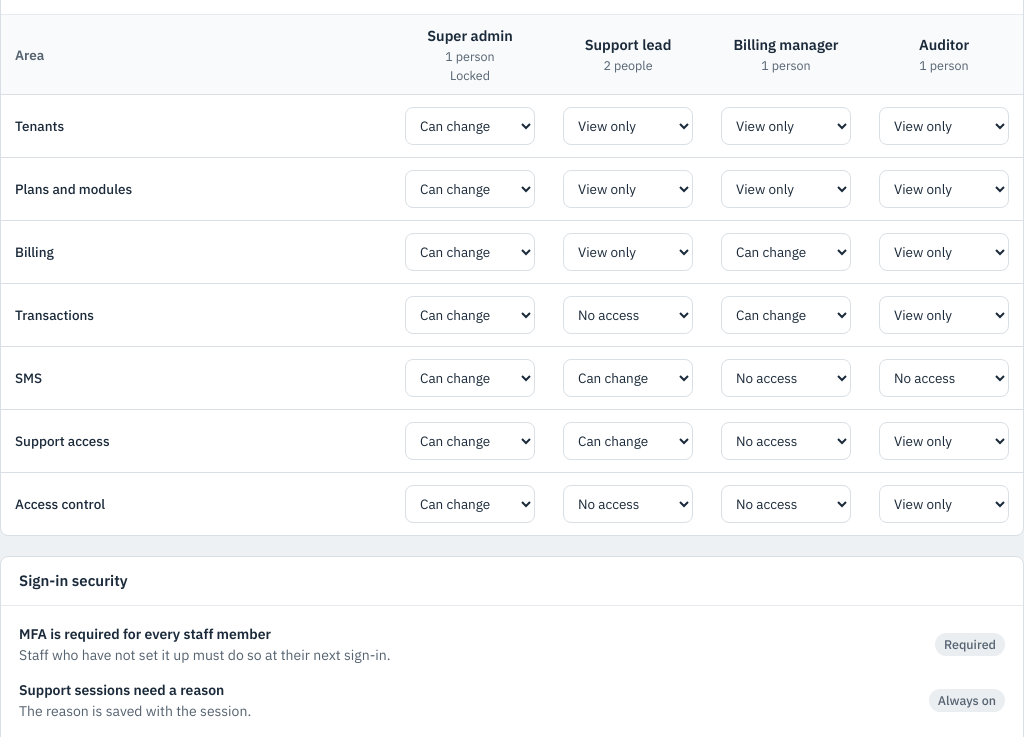
Scenario: role matrix: editing › discards the edits and says so
The image size is (1024, 737).
(page scrolled)
Expected: the column heading "Super admin 1 person Locked" is shown, 391,15 -> 549,95
Select "View only" in the dropdown named "SMS for Billing manager": {"x": 786, "y": 378} 721,359 -> 851,397
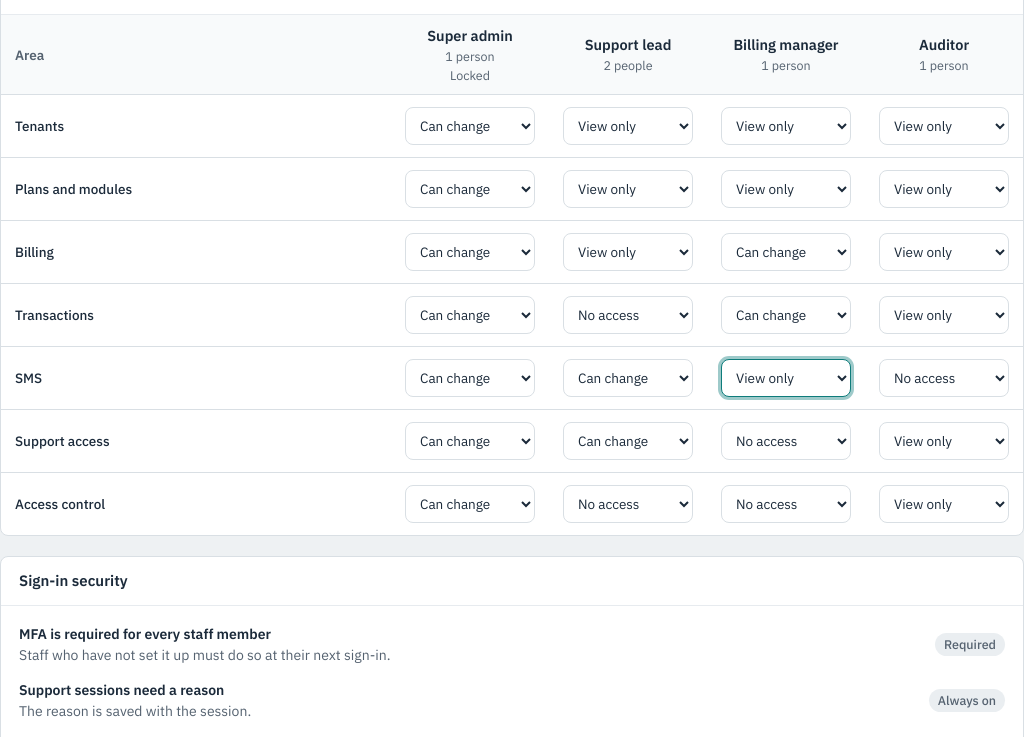
Select "Can change" in the dropdown named "Tenants for Auditor": {"x": 944, "y": 126} 879,107 -> 1009,145
(page scrolled)
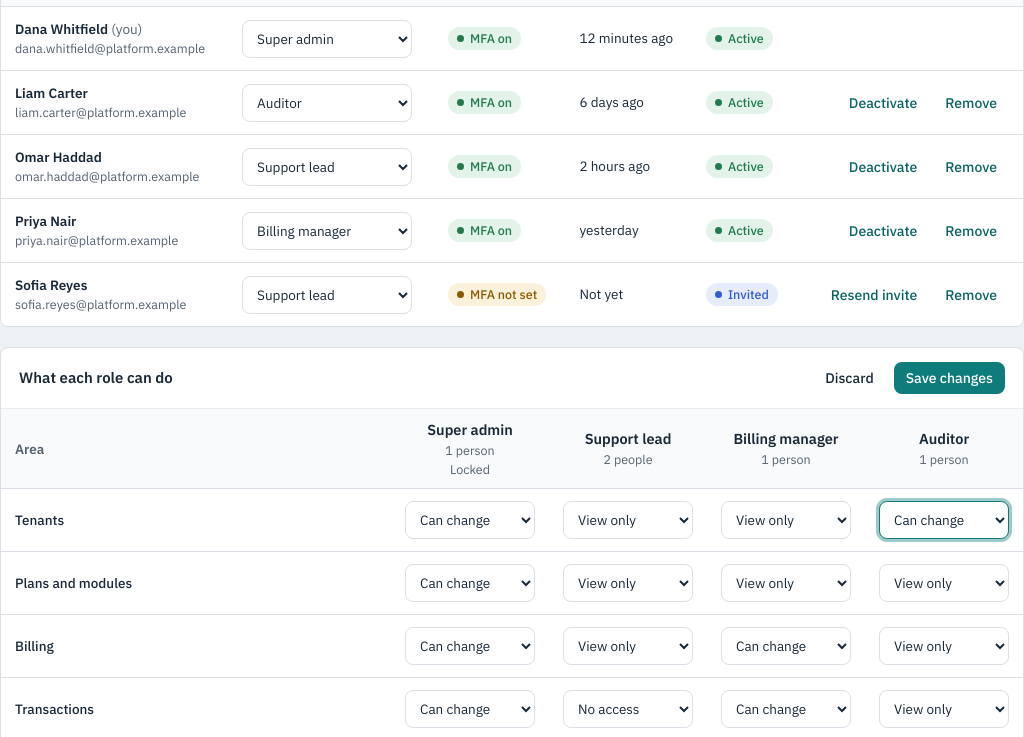
Click the button "Discard": {"x": 850, "y": 378} 813,362 -> 886,394
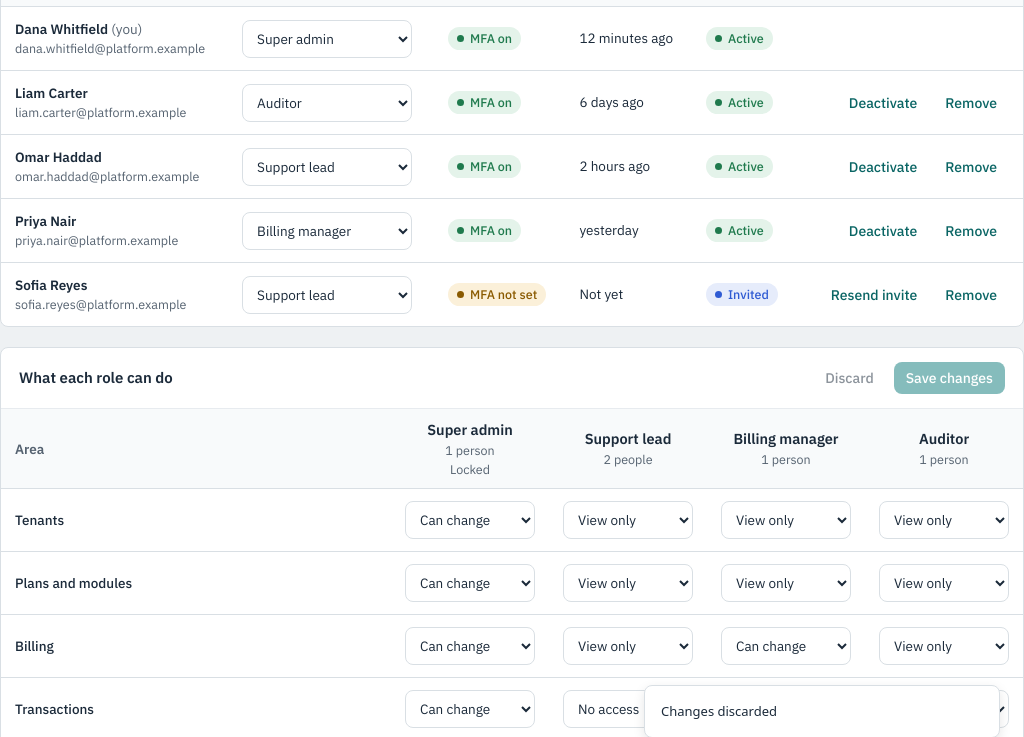
Now the text "Changes discarded" is shown, box 661,702 -> 777,721
Now the button "Save changes" is disabled, box 894,362 -> 1005,394
